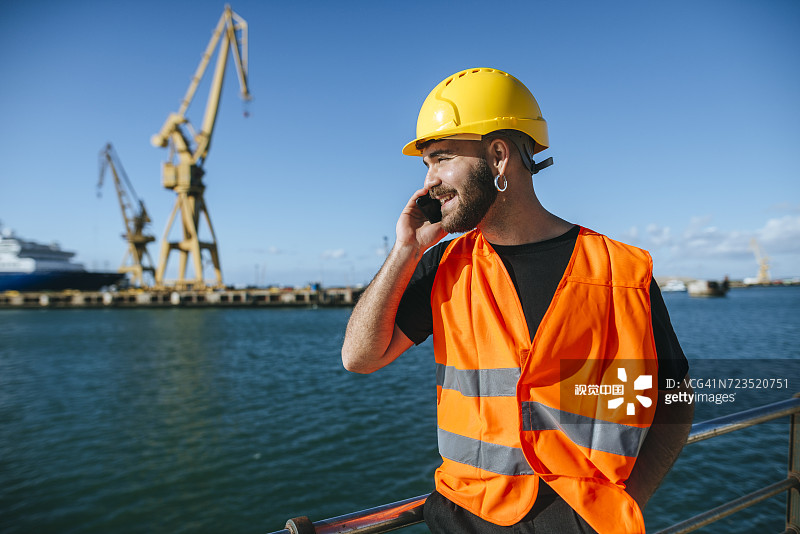calling: (383, 171, 462, 257)
